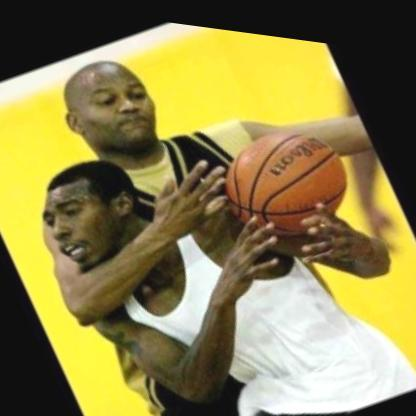basketball: (202, 89, 372, 264)
